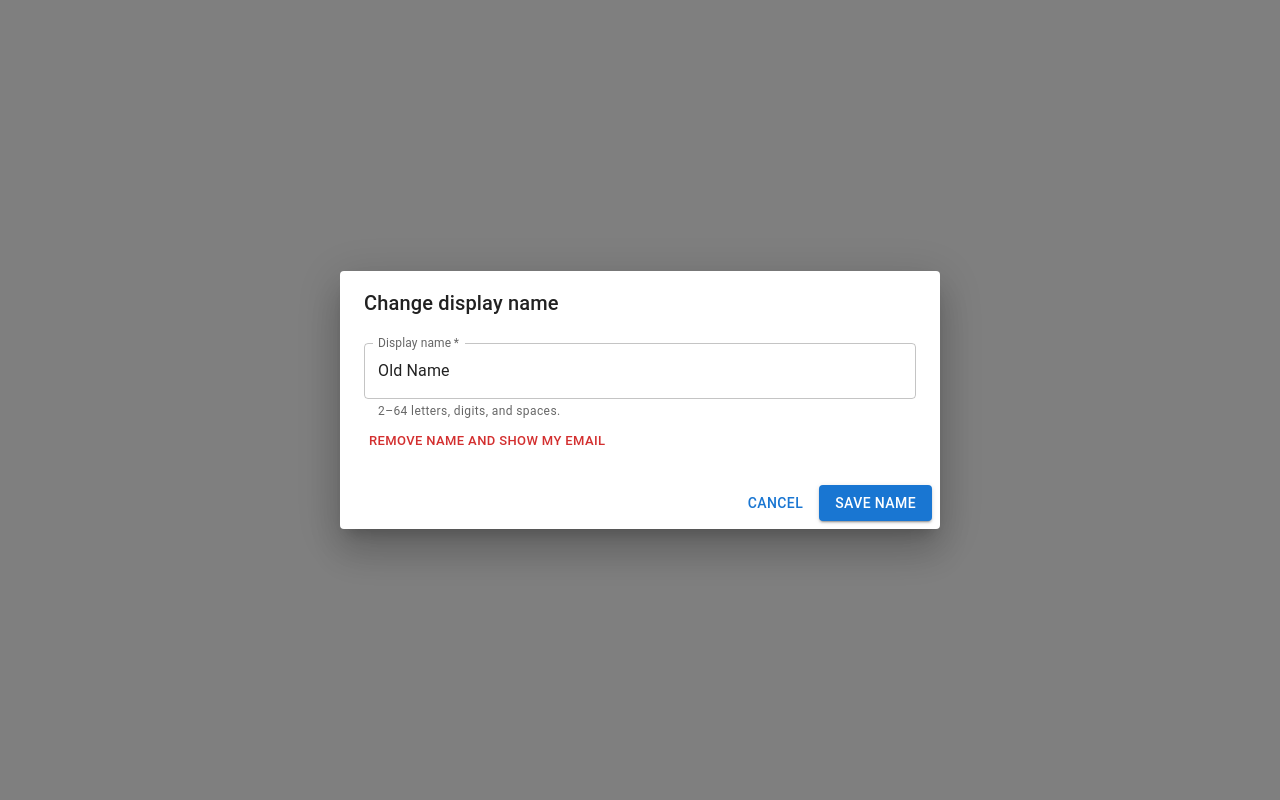
Test: ChangeDisplayNameDialog › shows API errors and keeps the dialog open
Click the button "Save name": (876, 503) 819,485 -> 932,521
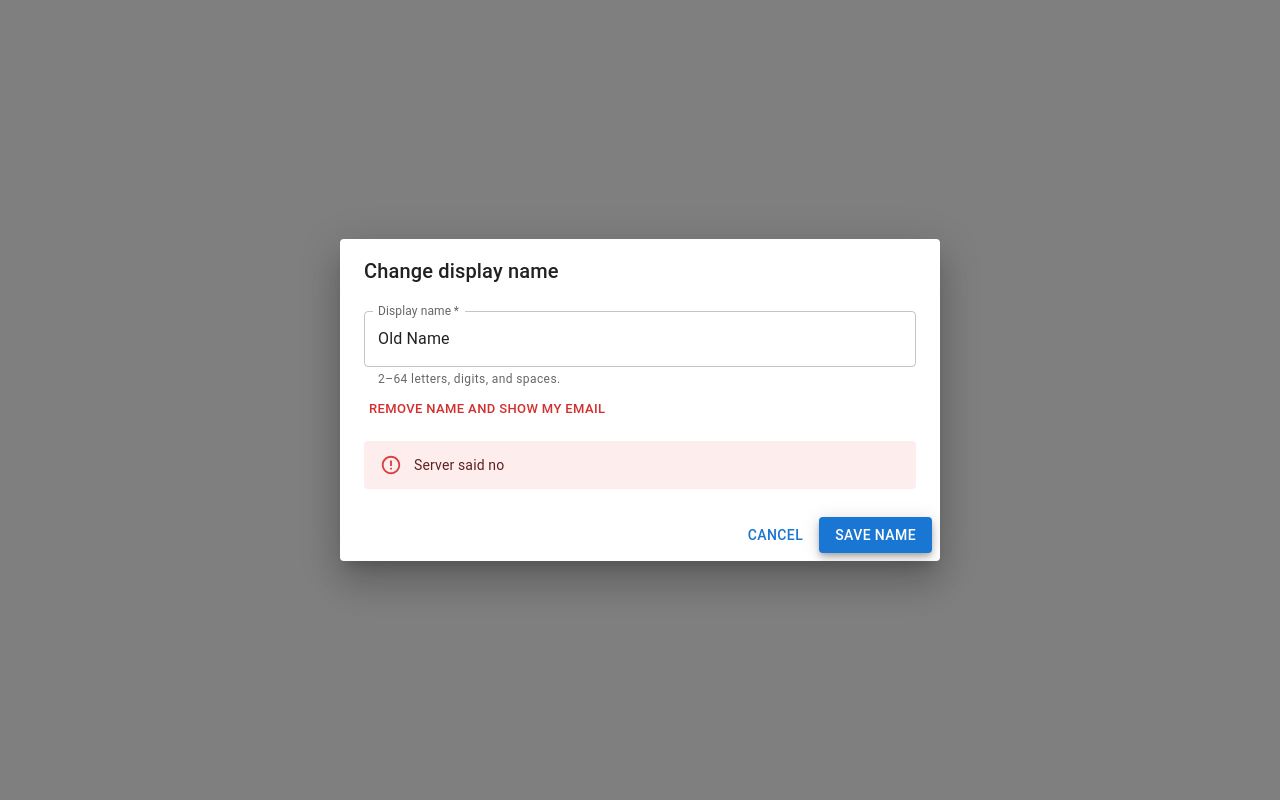
Now the text "Server said no" is shown, box 414,457 -> 504,473
